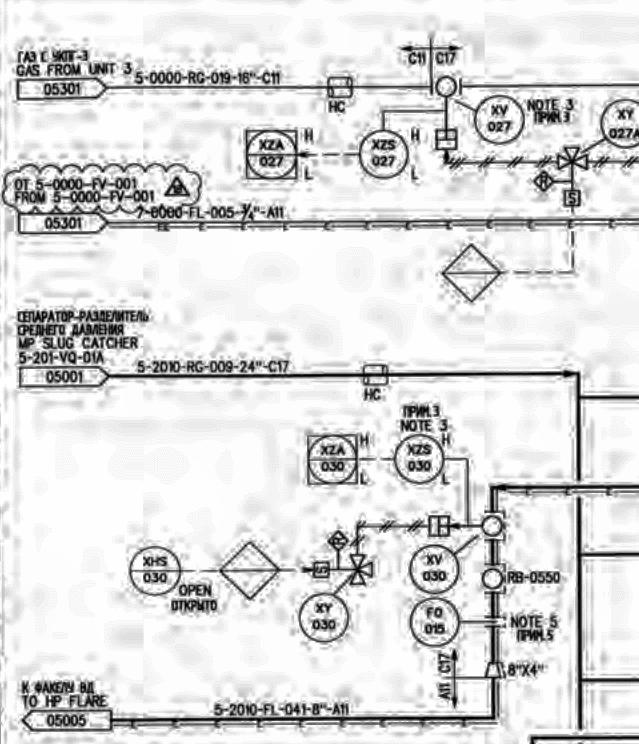3 WAY GENERAL VALVE: (553, 143, 596, 172), (347, 549, 375, 588)
DCS ACCESSIBLE: (298, 427, 365, 489), (240, 123, 302, 185), (126, 544, 181, 597)
DUPLEX RECEPTACLE: (320, 71, 360, 104), (356, 360, 394, 394)
END FLANGED: (481, 609, 508, 633)
FIELD INSTRUMENT: (390, 431, 449, 487), (295, 590, 351, 645), (404, 599, 463, 647), (408, 542, 460, 595), (356, 140, 412, 180), (475, 510, 508, 540), (479, 563, 508, 593), (433, 73, 459, 100)
HARDWIRED INTERLOCK FIELD: (325, 525, 352, 552), (530, 167, 558, 193)
HARDWIRED INTERLOCK PRIMARY.: (218, 538, 283, 601), (442, 241, 502, 303)
REVISION TRIANGLE: (162, 173, 192, 201)
SPEED FLOW METER: (305, 558, 333, 581), (561, 186, 585, 210)
